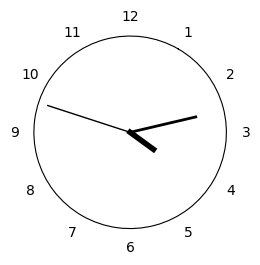12: (123, 9, 139, 23)
circle: (34, 36, 227, 228)
hours: (127, 129, 157, 152)
minutes: (134, 116, 197, 132)
seconds: (47, 105, 126, 131)
